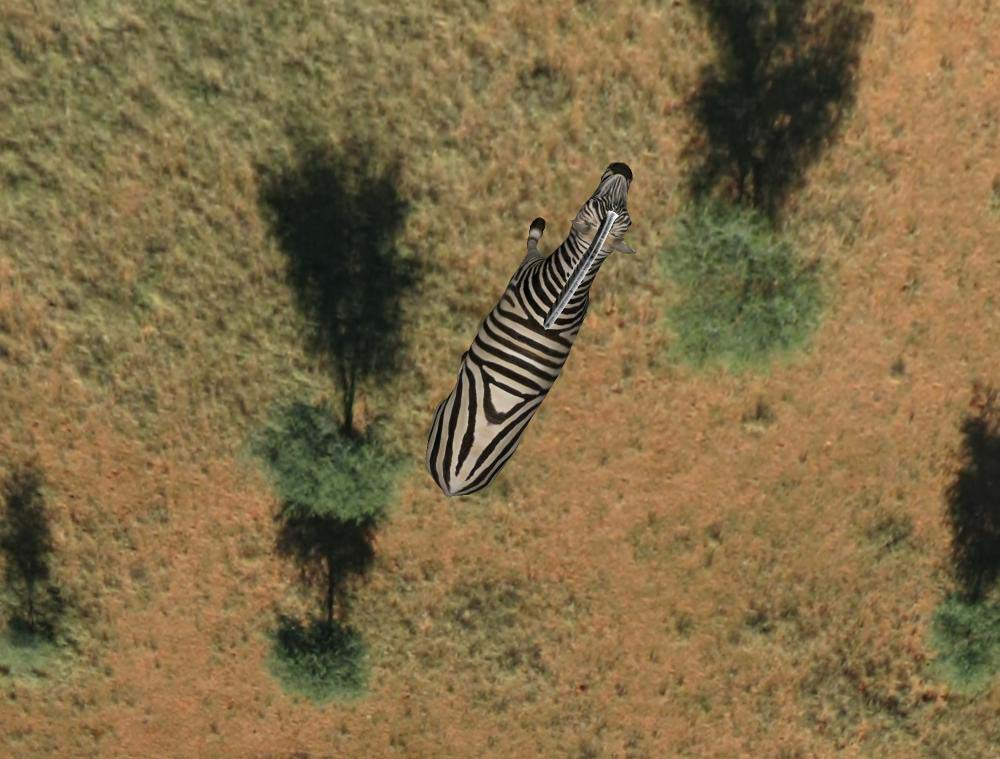zebra: (426, 148, 633, 502)
